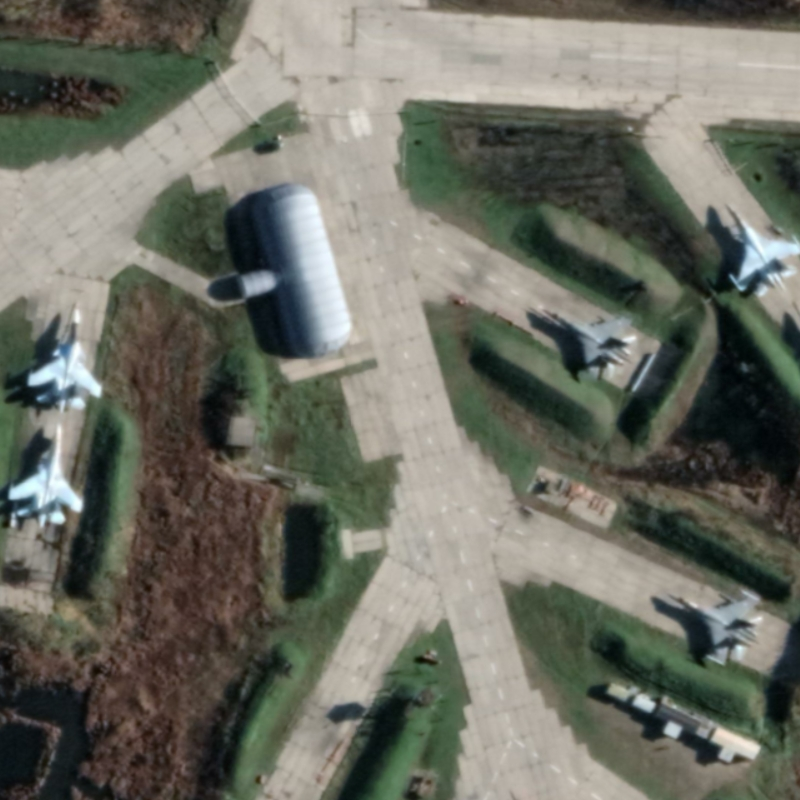A1: (4, 421, 85, 530), (536, 302, 639, 384), (666, 587, 765, 669), (721, 199, 800, 300)
A19: (24, 300, 104, 414)
